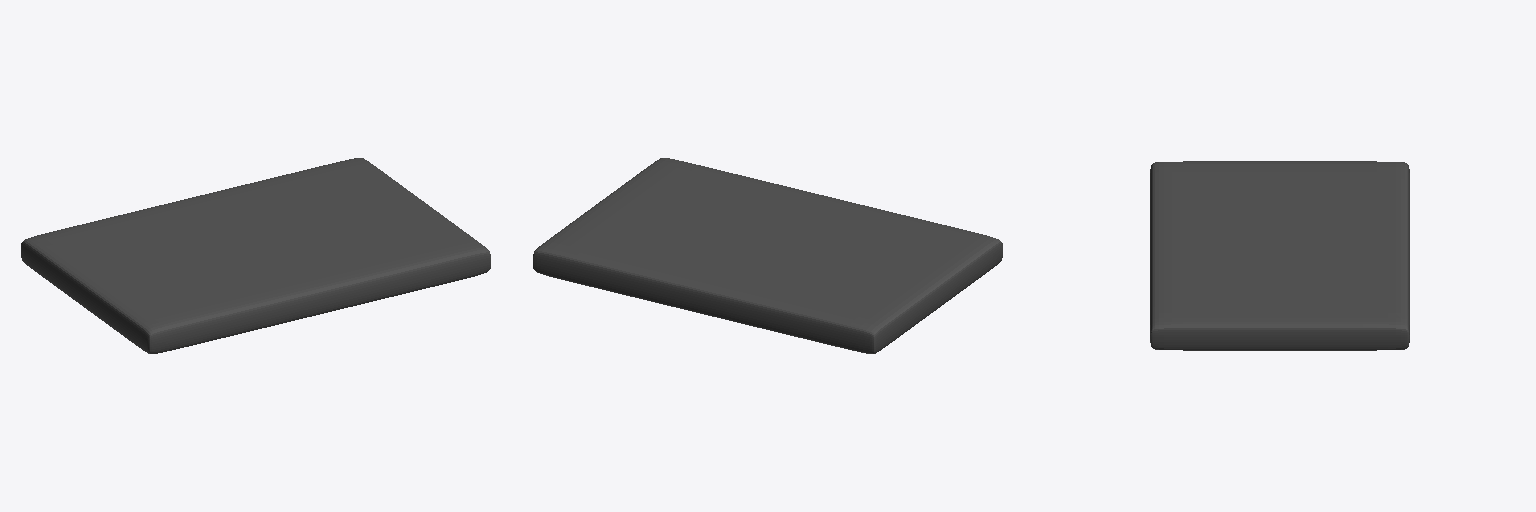
Rendered from mattress.obj.
3 renders of one model, left to right at view 1: azimuth 30°, elevation 25°; view 2: azimuth 150°, elevation 25°; view 3: azimuth 270°, elevation 25°, orthographic.
Visible parts, largest first — view 1: matress; view 2: matress; view 3: matress.
Part boxes in pixels (x1,y1,x2,y2): matress: (21,158,490,353); matress: (533,158,1002,353); matress: (1150,161,1409,350).
Size of the model in its own units: 1.72 by 0.1336 by 1.13.